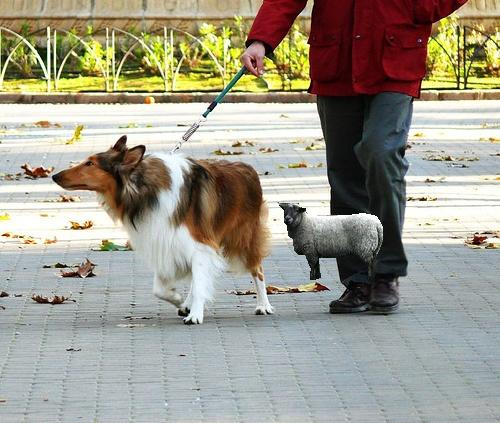tampered: (278, 203, 383, 280)
